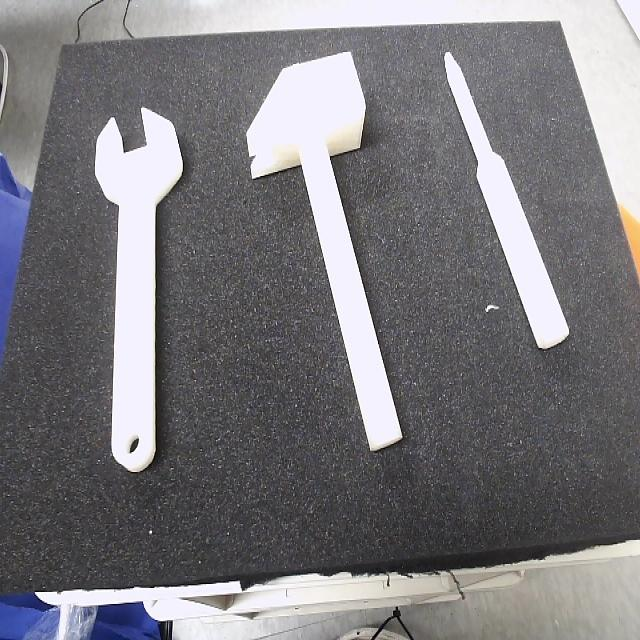Driver: (444, 53, 570, 352)
Hammer: (245, 52, 402, 455)
Spanner: (93, 111, 183, 473)
